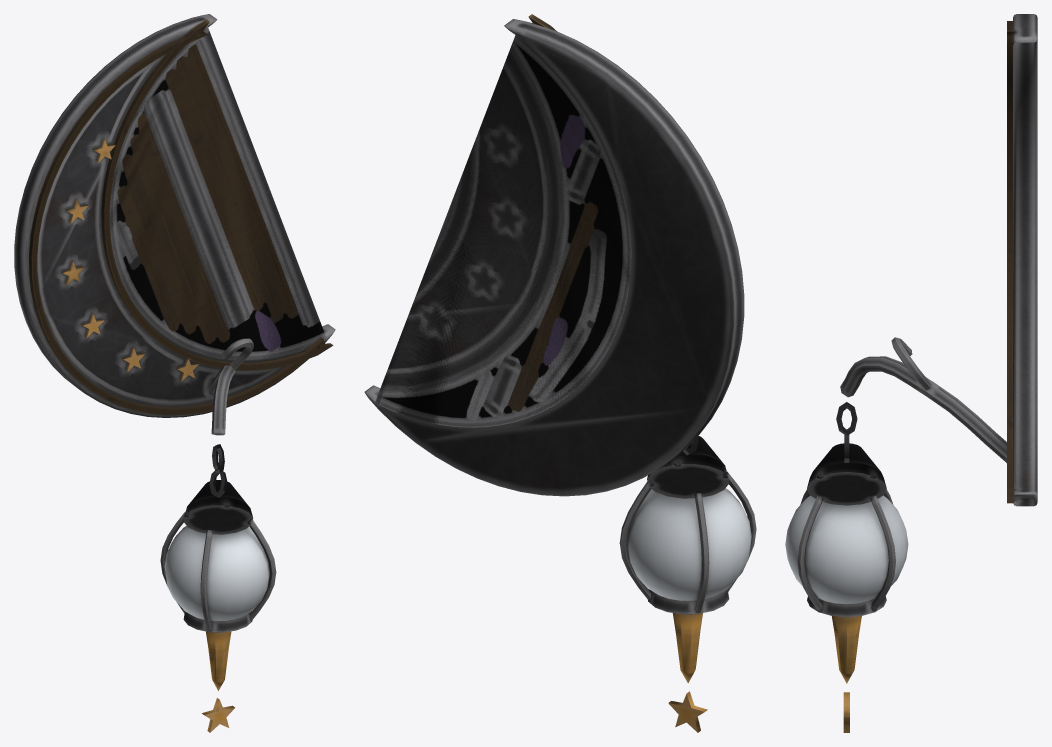
The model's file is SconceWitchlight.fbx.
3 renders of one model, left to right at view 1: azimuth 30°, elevation 25°; view 2: azimuth 150°, elevation 25°; view 3: azimuth 270°, elevation 25°, orthographic. The views are drawn at different scales.
Visible parts, largest first — view 1: SconceWitchlight_Main, SconceWitchlight_Glass; view 2: SconceWitchlight_Main, SconceWitchlight_Glass; view 3: SconceWitchlight_Main, SconceWitchlight_Glass.
Boxes of the visible parts, <box> form: SconceWitchlight_Main: <box>14,14,335,732</box>; SconceWitchlight_Glass: <box>164,526,269,621</box>; SconceWitchlight_Main: <box>364,14,756,732</box>; SconceWitchlight_Glass: <box>627,488,751,600</box>; SconceWitchlight_Main: <box>797,14,1037,732</box>; SconceWitchlight_Glass: <box>785,495,908,604</box>.
Bounding box in the file's own units: 134 × 262 × 82.
